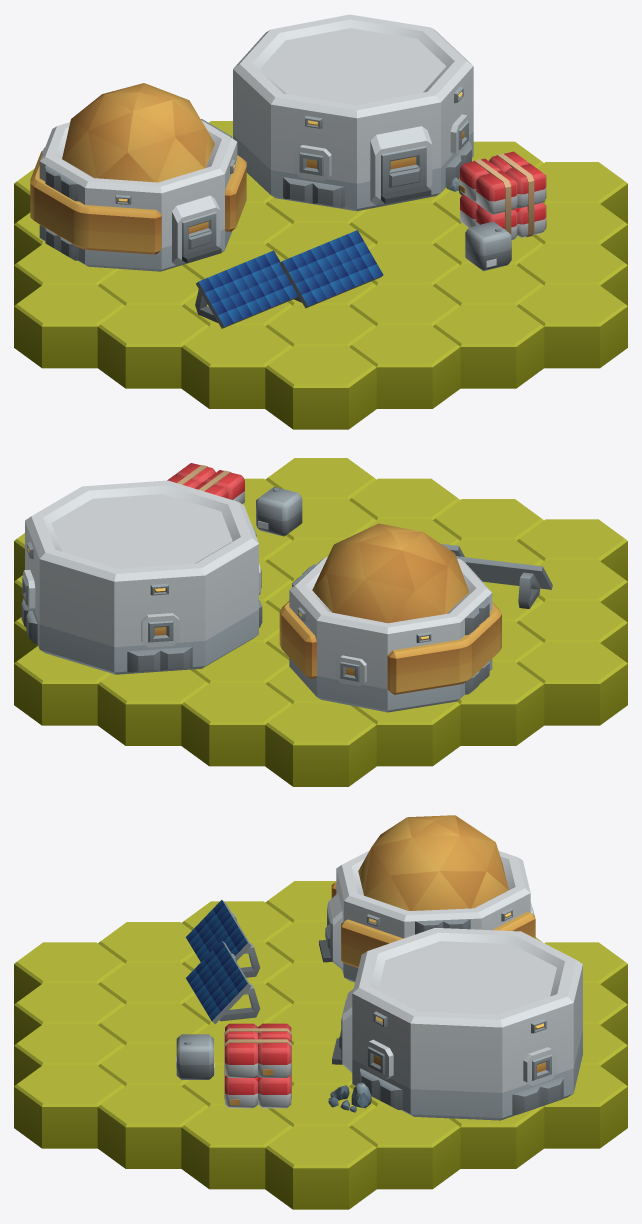
File: space-outpost.glb
The picture shows the model from 3 angles, top to bottom: view 1: azimuth 30°, elevation 25°; view 2: azimuth 150°, elevation 25°; view 3: azimuth 270°, elevation 25°; orthographic projection.
Parts seen in each view (by area): view 1: hex_grass (×27), basemodule_C, basemodule_E, solarpanel (×2), cargo_A_stacked, cargo_B; view 2: hex_grass (×26), basemodule_C, basemodule_E, solarpanel, cargo_B, cargo_A_stacked; view 3: hex_grass (×28), basemodule_C, basemodule_E, solarpanel (×2), cargo_A_stacked, cargo_B, Iron_Nuggets.
Part boxes in pixels (bbox=[...]): hex_grass (×27): bbox=[14, 141, 627, 429]; basemodule_C: bbox=[233, 14, 473, 211]; basemodule_E: bbox=[30, 83, 246, 271]; solarpanel (×2): bbox=[195, 230, 383, 328]; cargo_A_stacked: bbox=[459, 151, 546, 240]; cargo_B: bbox=[465, 221, 511, 270]; hex_grass (×26): bbox=[14, 458, 627, 786]; basemodule_C: bbox=[21, 480, 262, 674]; basemodule_E: bbox=[279, 523, 501, 712]; solarpanel: bbox=[456, 556, 552, 608]; cargo_B: bbox=[256, 487, 302, 536]; cargo_A_stacked: bbox=[167, 463, 244, 503]; hex_grass (×28): bbox=[14, 881, 627, 1209]; basemodule_C: bbox=[332, 928, 582, 1120]; basemodule_E: bbox=[319, 815, 535, 982]; solarpanel (×2): bbox=[185, 900, 260, 1023]; cargo_A_stacked: bbox=[224, 1023, 291, 1108]; cargo_B: bbox=[176, 1034, 214, 1079]; Iron_Nuggets: bbox=[328, 1082, 371, 1112].
Bounding box in the file's own units: 14 × 4.2 × 12.7.
7 materials, 7 textured.
